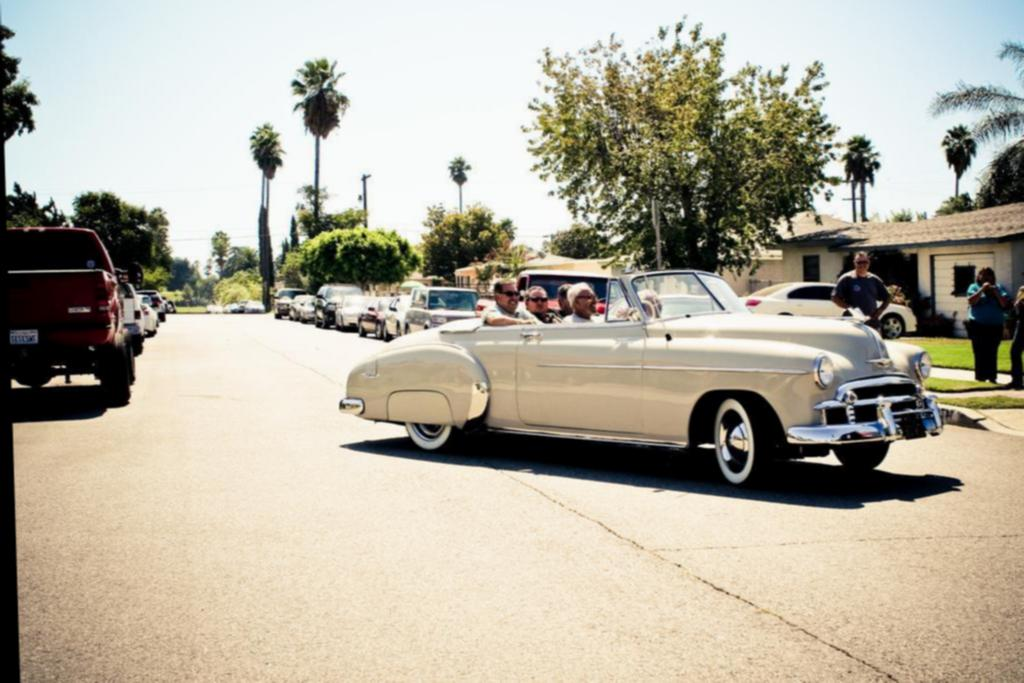License_Plate: (12, 324, 41, 344)
